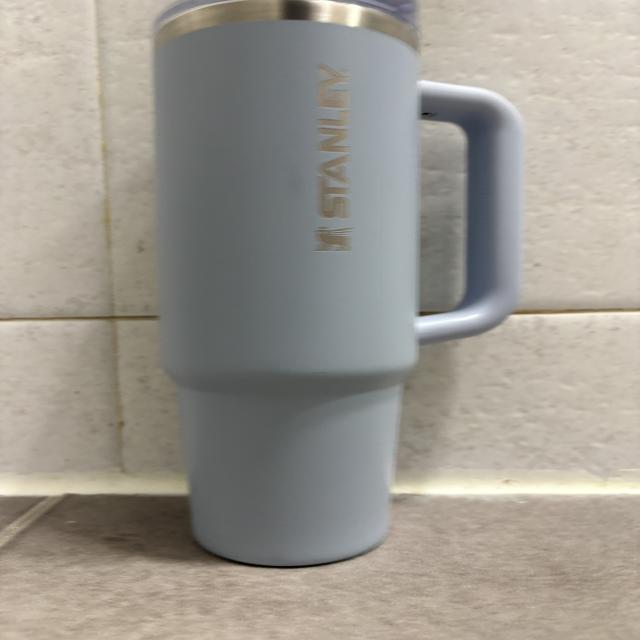waterbottle: (151, 0, 518, 568)
